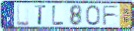8: (69, 4, 83, 27)
F: (102, 5, 120, 27)
L: (16, 4, 30, 26), (52, 5, 66, 26)
O: (85, 5, 101, 27)
T: (34, 4, 47, 26)
